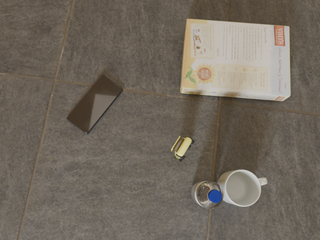bottle: (191, 181, 224, 209)
box: (180, 19, 290, 101)
cup: (217, 170, 267, 206)
phone: (67, 75, 123, 134)
toy_car: (171, 136, 195, 162)
